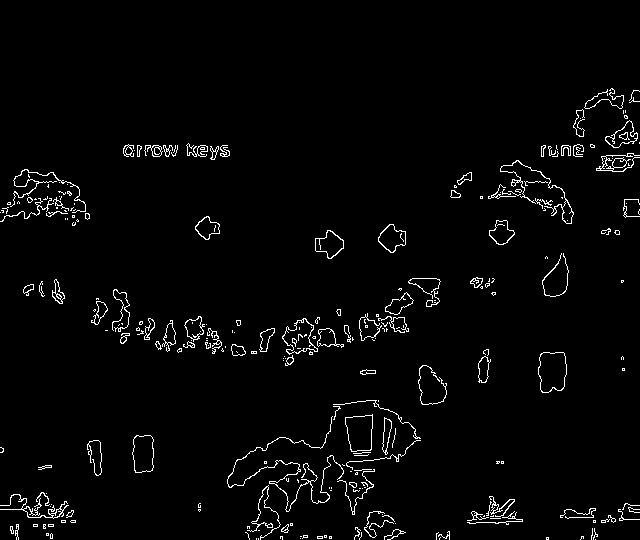down: (480, 216, 522, 254)
left: (368, 218, 414, 258), (188, 210, 226, 246)
right: (308, 223, 350, 263)
